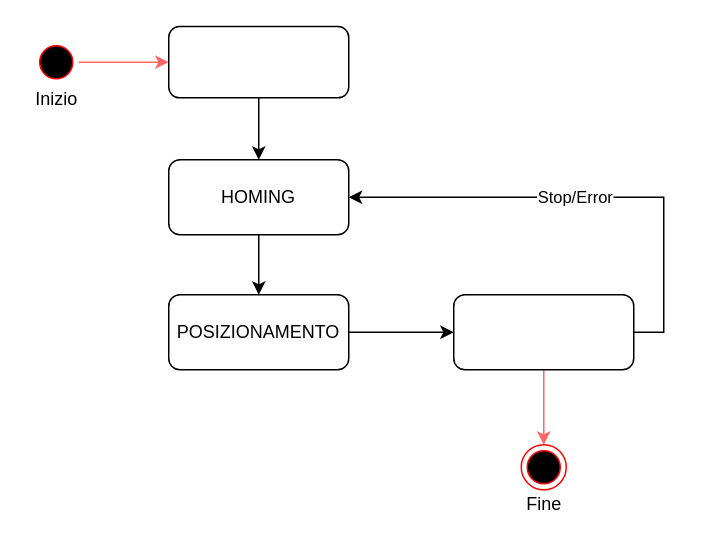
Some shapes in this 702 by 546 pixel diagram are drawn without their labels. Here are the shapes that lost their labels. From the top down, the centre of each, then its label:
At pixel 258 61: "ACCENSIONE".
At pixel 543 331: "TRAIETTORIA".
